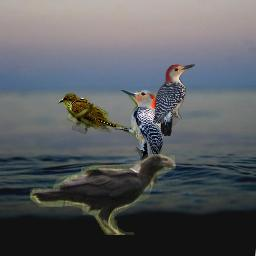Crow: (30, 154, 176, 235)
Cuckoo: (58, 93, 138, 135)
Woodpecker: (113, 90, 163, 188), (153, 64, 195, 136)
